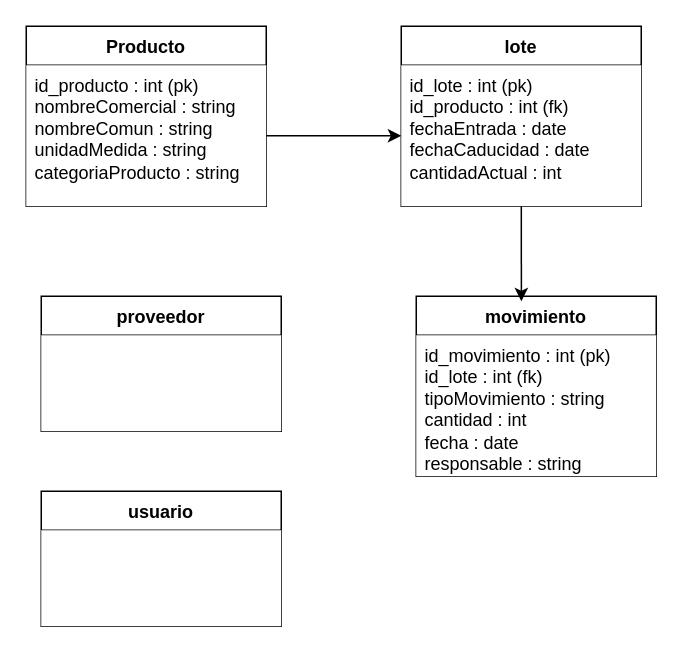
Some shapes in this 683 by 657 pixel diagram are drawn without their labels. The shapes that lost their labels are listed below. From the top down, each one's box as (x1, y1, x2, y2) in pixels, then its label:
(40, 334, 280, 430): id_proveedor : int (pk) nombre : string telefono : string direccion : string
(40, 530, 280, 626): id_usuario : int (pk) nameUser: string password : string
